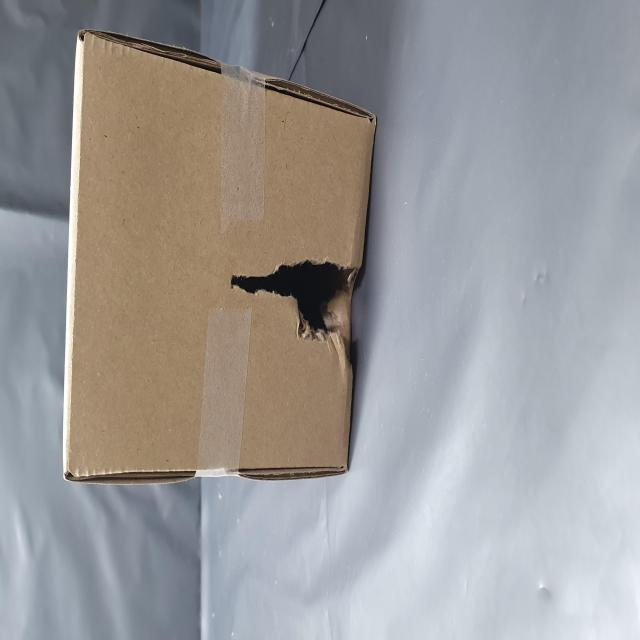damaged: (162, 415, 215, 640)
